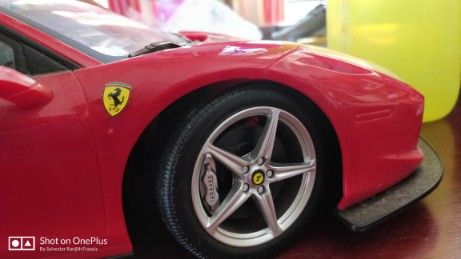unaligned_wheel: (145, 85, 322, 257)
